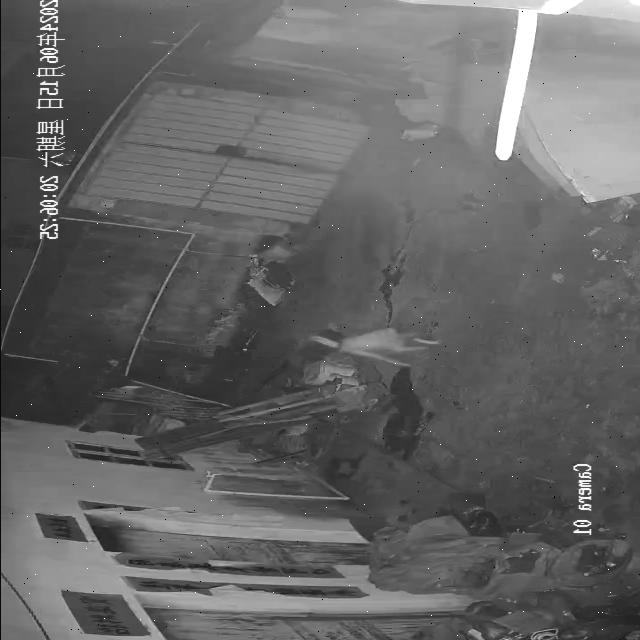dog: (310, 326, 451, 370)
